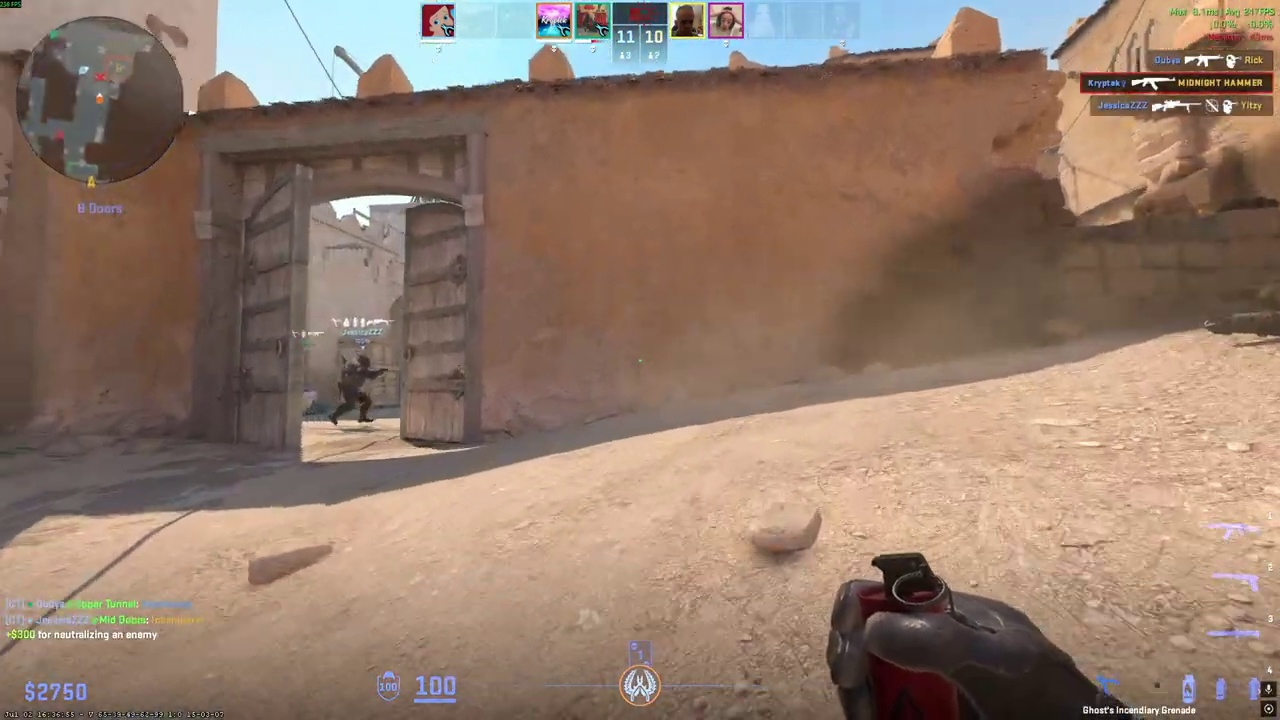CT: (331, 353, 379, 426)
